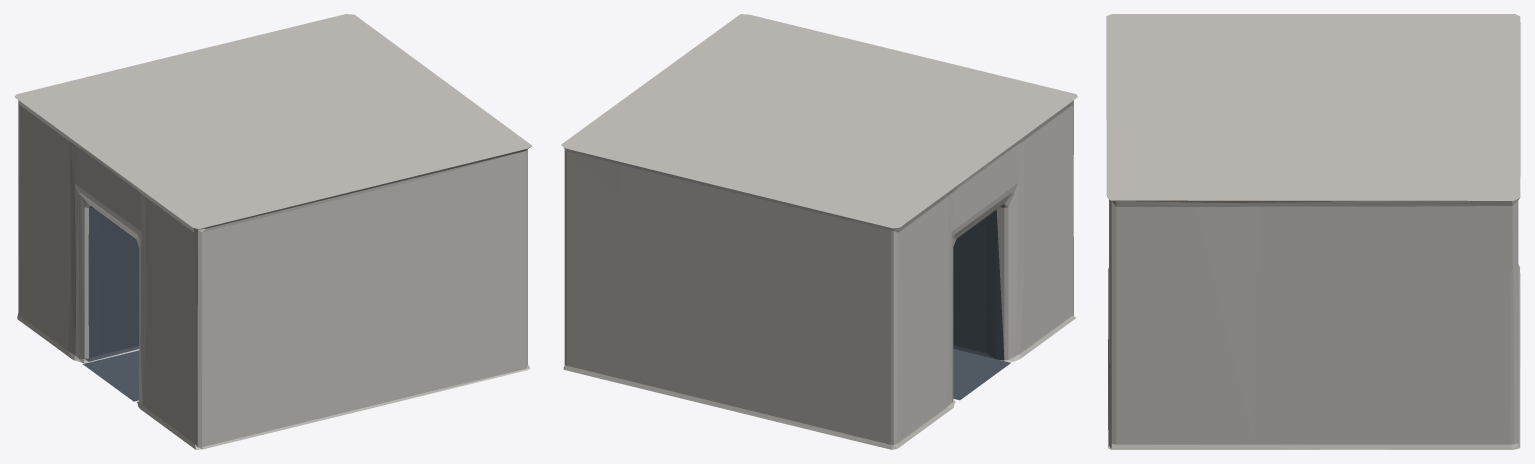
Rendered from etape-1.glb.
The picture shows the model from 3 angles, left to right: view 1: azimuth 30°, elevation 25°; view 2: azimuth 150°, elevation 25°; view 3: azimuth 270°, elevation 25°; orthographic projection. The views are drawn at different scales.
Parts seen in each view (by area): view 1: geometry_0; view 2: geometry_0; view 3: geometry_0.
Part boxes in pixels (box(x1,y1,x2,y2)): geometry_0: box(14, 14, 531, 449); geometry_0: box(561, 14, 1077, 449); geometry_0: box(1106, 14, 1520, 449).
Bounding box in the file's own units: 0.7309 × 0.457 × 0.6853.
